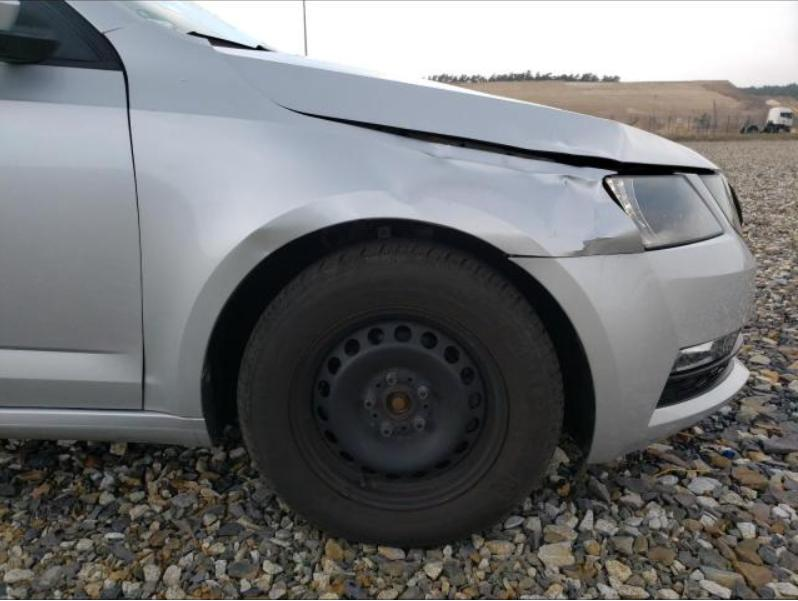Fender: (103, 19, 646, 419)
Front-bumper: (510, 233, 755, 464)
Front-door: (0, 0, 142, 411)
Front-wheel: (238, 241, 563, 548)
Grille: (684, 174, 744, 240)
Headlight: (609, 175, 724, 249)
Hood: (213, 47, 723, 168)
Mirror: (0, 28, 59, 66)
Rocker-panel: (0, 410, 213, 449)
Windshield: (138, 0, 267, 50)
